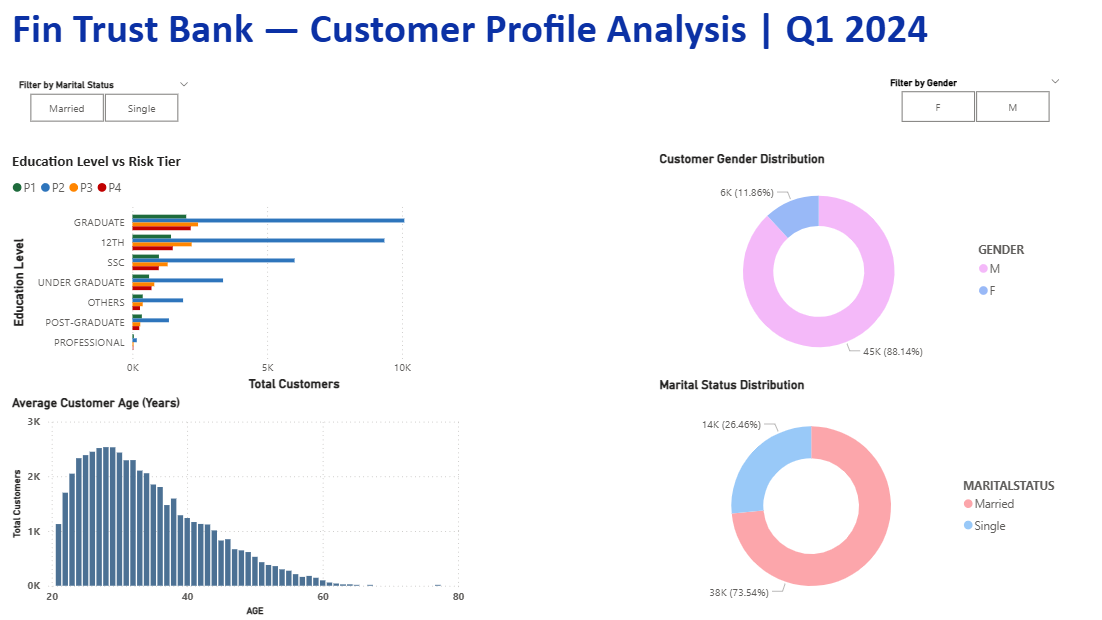

What the dashboard file says about the page in this screenshot:
{"tool":"powerbi","page":{"name":"Customer Profile","canvas":[1280,720],"ordinal":3},"visuals":[{"type":"clusteredBarChart","title":" Education Level vs Risk Tier","fields":{"Category":["fintrust_db external_cibil_data.EDUCATION"],"Y":["fintrust_db external_cibil_data.Total Customers"],"Series":["fintrust_db external_cibil_data.Approved_Flag"]},"box":[0,177.5,535.3,281.3],"z":0},{"type":"donutChart","title":" Customer Gender Distribution","fields":{"Category":["fintrust_db external_cibil_data.GENDER"],"Y":["fintrust_db external_cibil_data.Total Customers"]},"box":[760.6,177.3,452.4,261.7],"z":1000},{"type":"clusteredColumnChart","title":" Average Customer Age (Years)","fields":{"Category":["fintrust_db external_cibil_data.AGE"],"Y":["fintrust_db external_cibil_data.Total Customers"]},"box":[0,458.8,535.3,261.1],"z":2000},{"type":"donutChart","title":" Marital Status Distribution","fields":{"Category":["fintrust_db external_cibil_data.MARITALSTATUS"],"Y":["fintrust_db external_cibil_data.Total Customers"]},"box":[760.3,438.6,481.9,281.3],"z":3000},{"type":"slicer","fields":{"Values":["fintrust_db external_cibil_data.GENDER"]},"box":[836.4,89.3,221.3,58.7],"z":4000},{"type":"slicer","fields":{"Values":["fintrust_db external_cibil_data.MARITALSTATUS"]},"box":[0,86.8,221.3,61.1],"z":5000},{"type":"textbox","box":[0,0,1169,69.7],"z":6000}]}

Visuals, with their boxes in screenshot pixels (x1, y1, x2, y2), scaled from the page's 1280x720 canvas onto the 1102x620 screenshot:
" Education Level vs Risk Tier" clusteredBarChart: box(0, 153, 461, 395)
" Customer Gender Distribution" donutChart: box(655, 153, 1044, 378)
" Average Customer Age (Years)" clusteredColumnChart: box(0, 395, 461, 619)
" Marital Status Distribution" donutChart: box(655, 378, 1069, 619)
slicer - fintrust_db external_cibil_data.GENDER: box(720, 77, 911, 127)
slicer - fintrust_db external_cibil_data.MARITALSTATUS: box(0, 75, 191, 127)
textbox: box(0, 0, 1006, 60)
